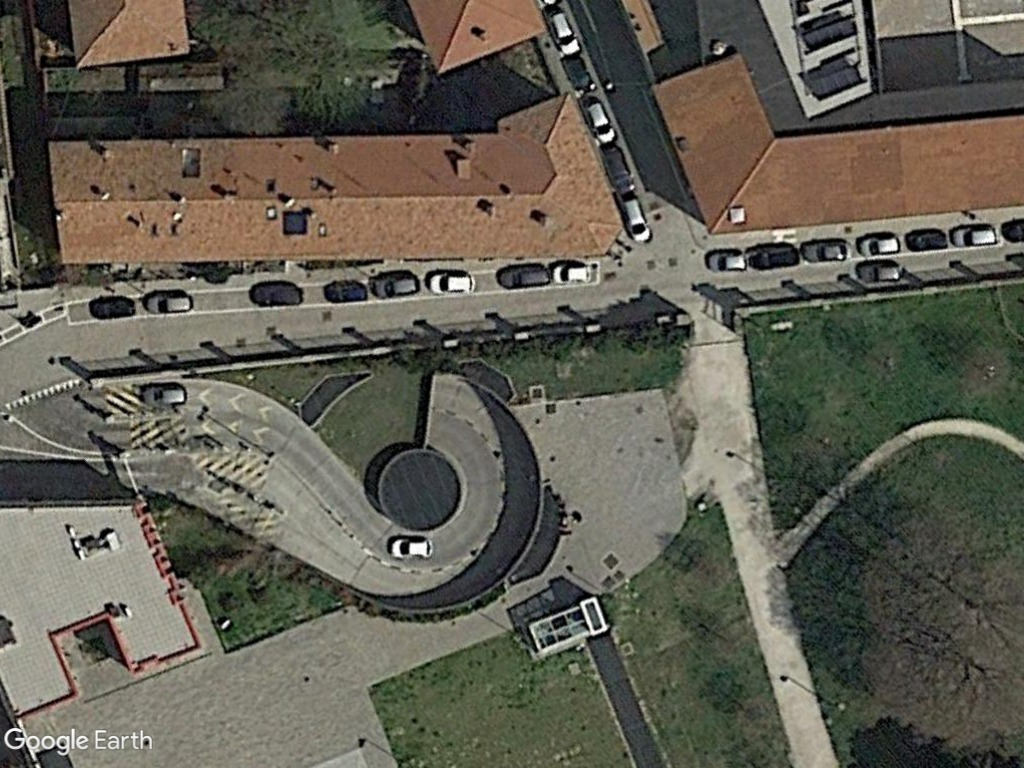car: (610, 185, 654, 244), (575, 93, 621, 146), (541, 5, 587, 57), (491, 262, 553, 292), (139, 290, 197, 319), (383, 531, 437, 562), (700, 244, 752, 276), (798, 237, 855, 266), (370, 269, 419, 302), (424, 269, 479, 297), (136, 382, 192, 409), (948, 222, 999, 251), (546, 258, 598, 286), (854, 231, 904, 259), (854, 260, 905, 286), (901, 227, 949, 254)
